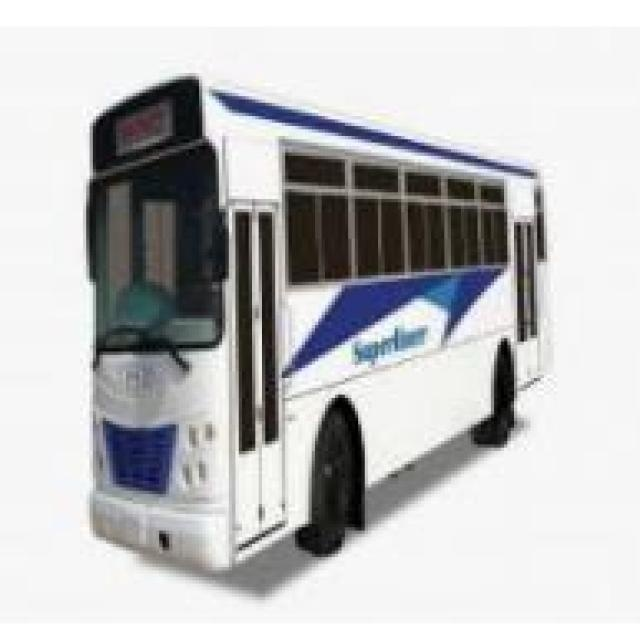Bus: (83, 73, 564, 584)
